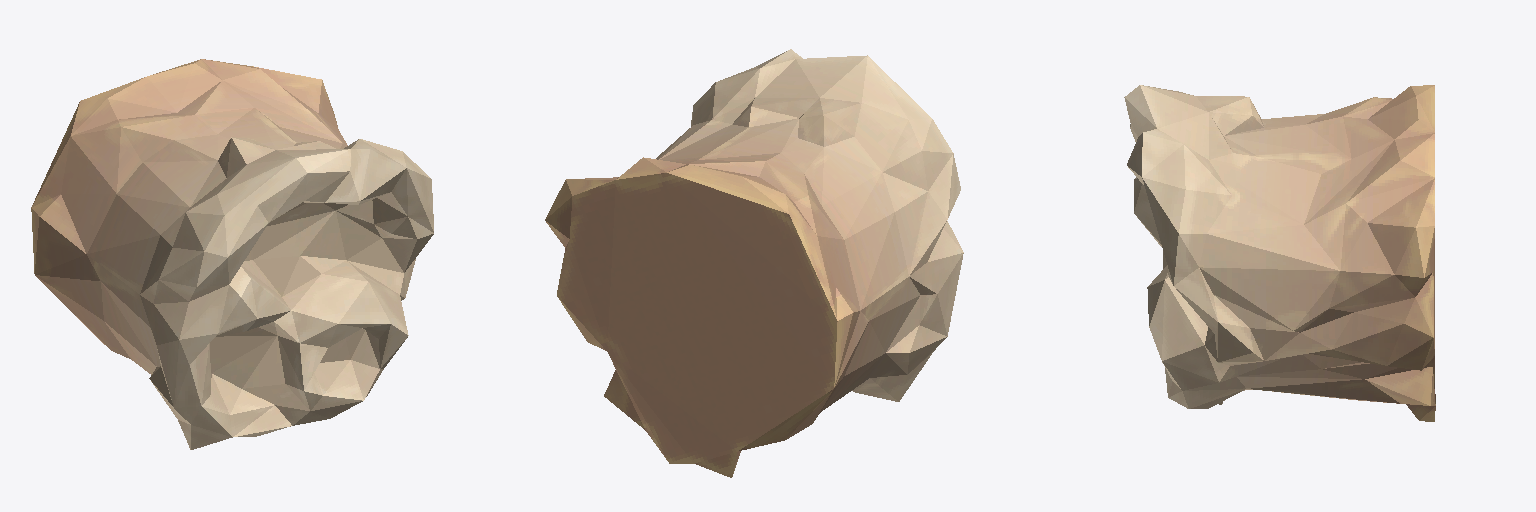
3 renders of one model, left to right at view 1: azimuth 30°, elevation 25°; view 2: azimuth 150°, elevation 25°; view 3: azimuth 270°, elevation 25°, orthographic.
Parts seen in each view (by area): view 1: DN_Vd_Candle_B; view 2: DN_Vd_Candle_B; view 3: DN_Vd_Candle_B.
Boxes of the visible parts, x1,y1,x2,y2 form: DN_Vd_Candle_B: [31, 59, 433, 449]; DN_Vd_Candle_B: [545, 49, 963, 477]; DN_Vd_Candle_B: [1124, 85, 1435, 421].
Size of the model in its own units: 1.05 by 1.05 by 0.9418.
1 materials, 1 textured.